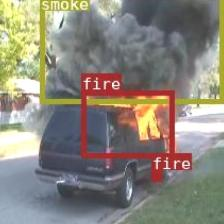fire: (80, 90, 174, 156), (151, 169, 161, 180)
smoke: (38, 0, 222, 102)
